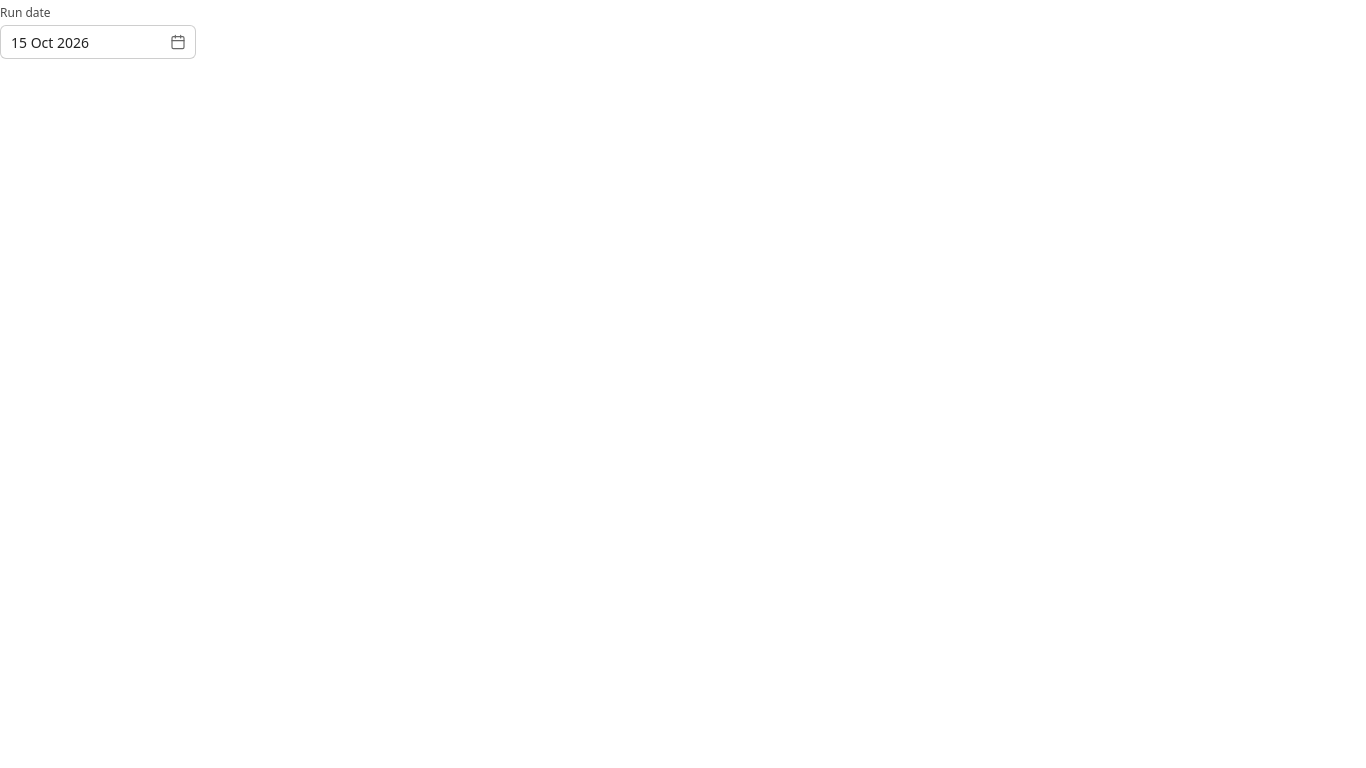
Test case: DatePicker › selects a single date with the keyboard
The width and height of the screenshot is (1366, 768).
Click the button named "Run date 15 Oct 2026".
click(98, 42)  # box [0, 25, 196, 59]
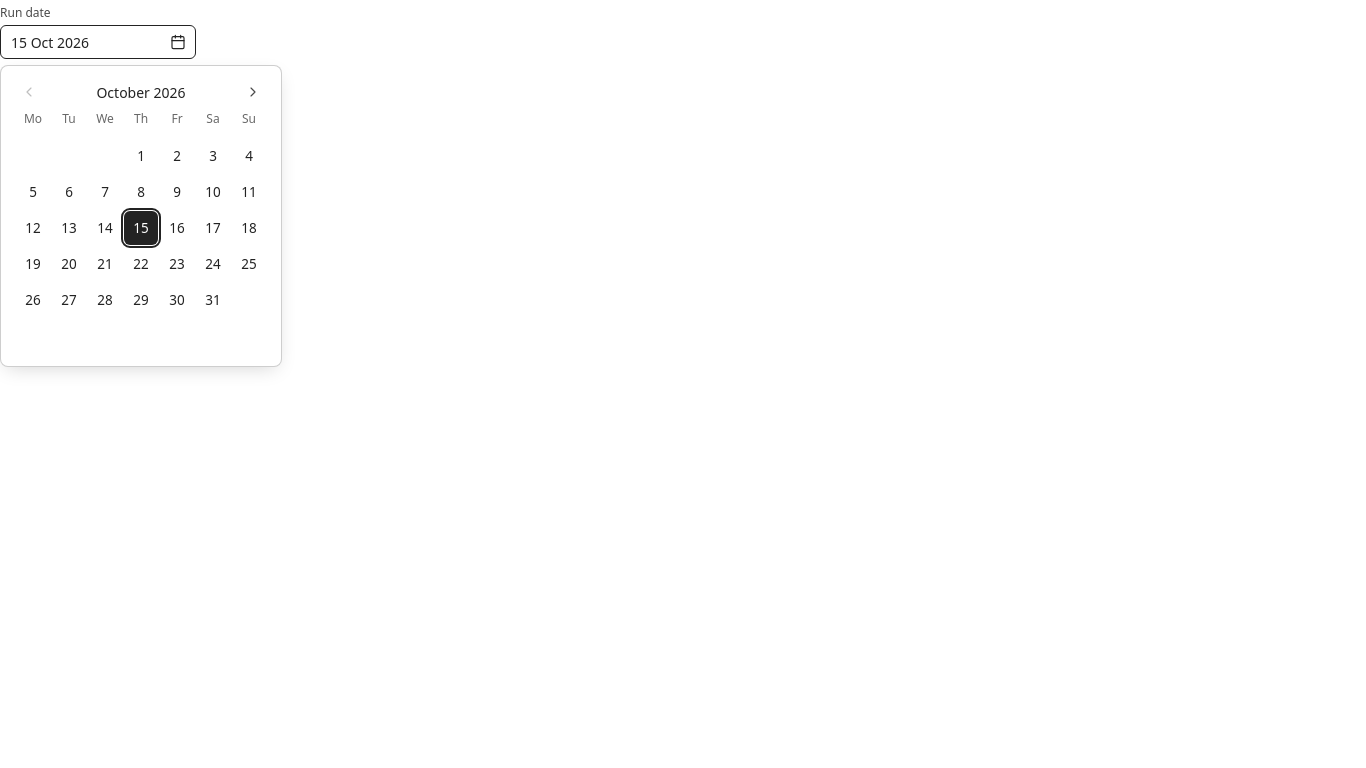
Press Arrowright Enter
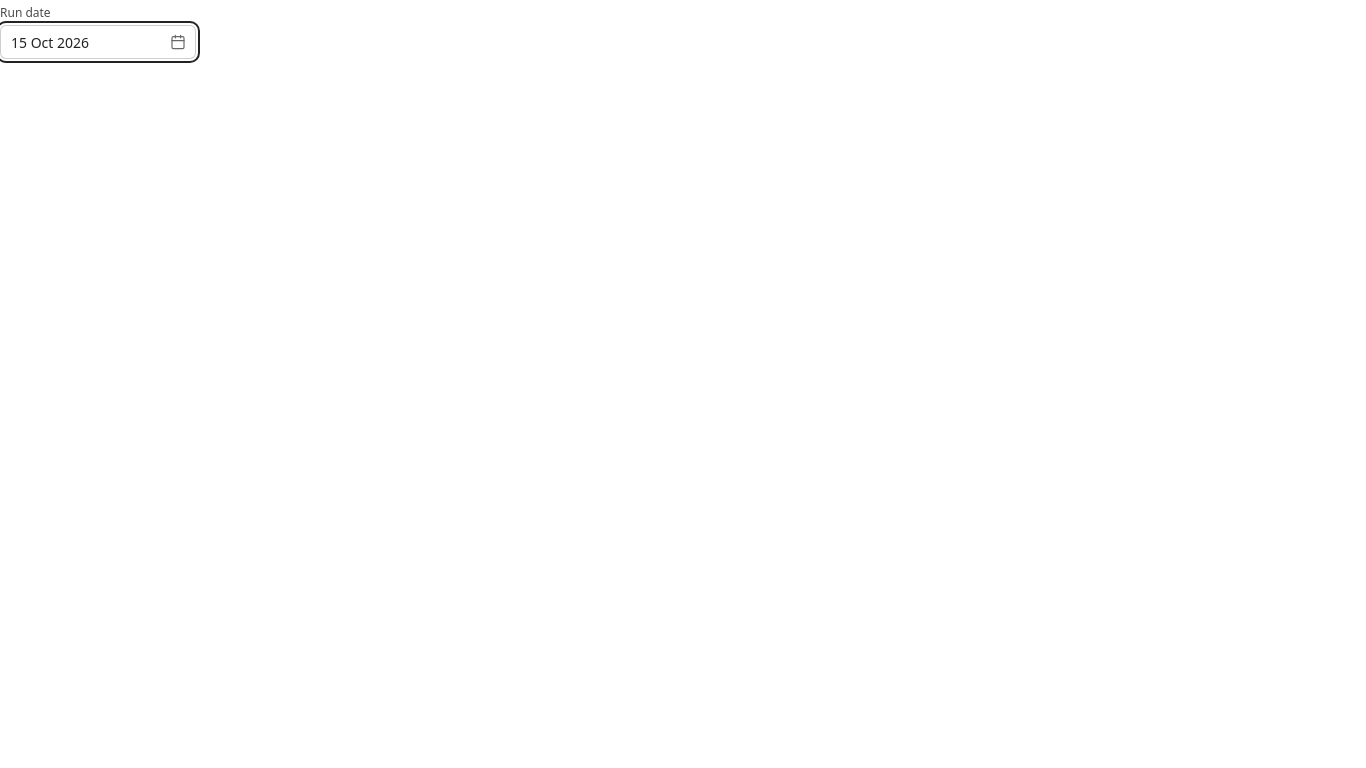
expect the dialog is gone: met
